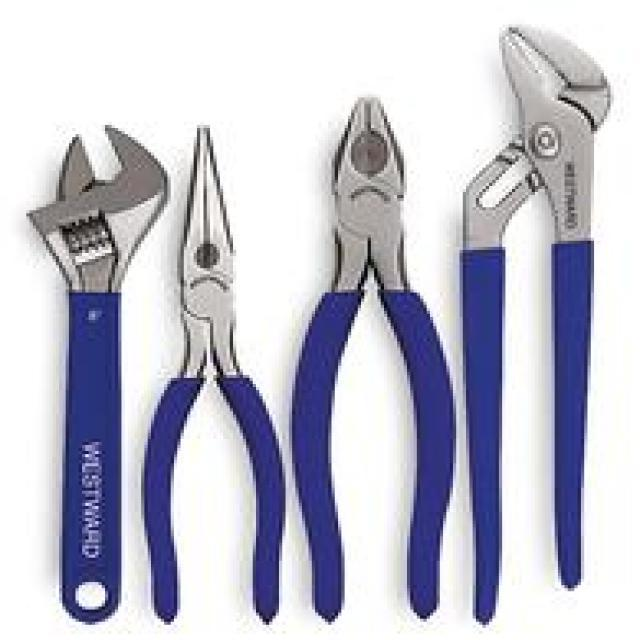pliers: (454, 20, 619, 632), (283, 91, 463, 627), (138, 120, 288, 632)
wrench: (20, 116, 174, 632)
